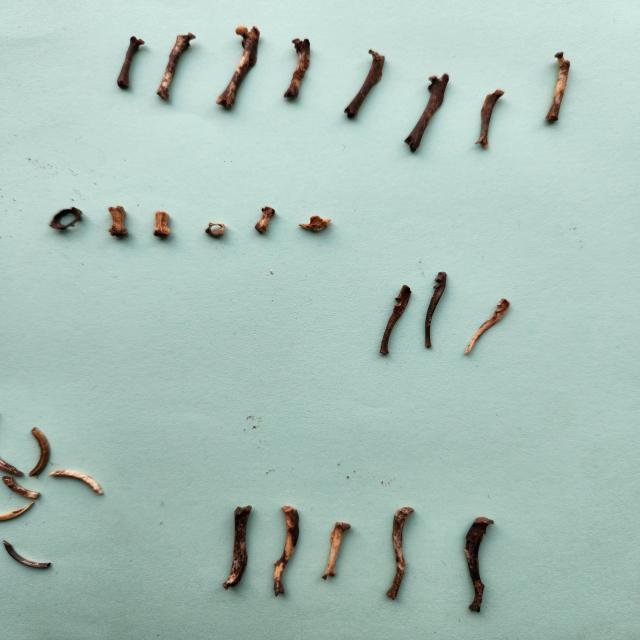fossil: (212, 22, 266, 116), (401, 70, 458, 158), (378, 502, 421, 606), (456, 512, 498, 618), (341, 46, 389, 124), (153, 29, 202, 105), (461, 295, 514, 358), (221, 498, 255, 596), (376, 279, 416, 359), (270, 499, 302, 599), (419, 268, 454, 351), (541, 46, 576, 127), (279, 34, 317, 104), (317, 519, 357, 584), (473, 87, 508, 154), (113, 30, 147, 96), (21, 425, 60, 479), (1, 537, 56, 574), (47, 468, 111, 498), (45, 203, 90, 234), (291, 210, 337, 238), (0, 474, 46, 502), (103, 203, 134, 241), (0, 501, 43, 526), (250, 204, 277, 238), (0, 454, 31, 482), (149, 206, 174, 240), (202, 218, 228, 243)
